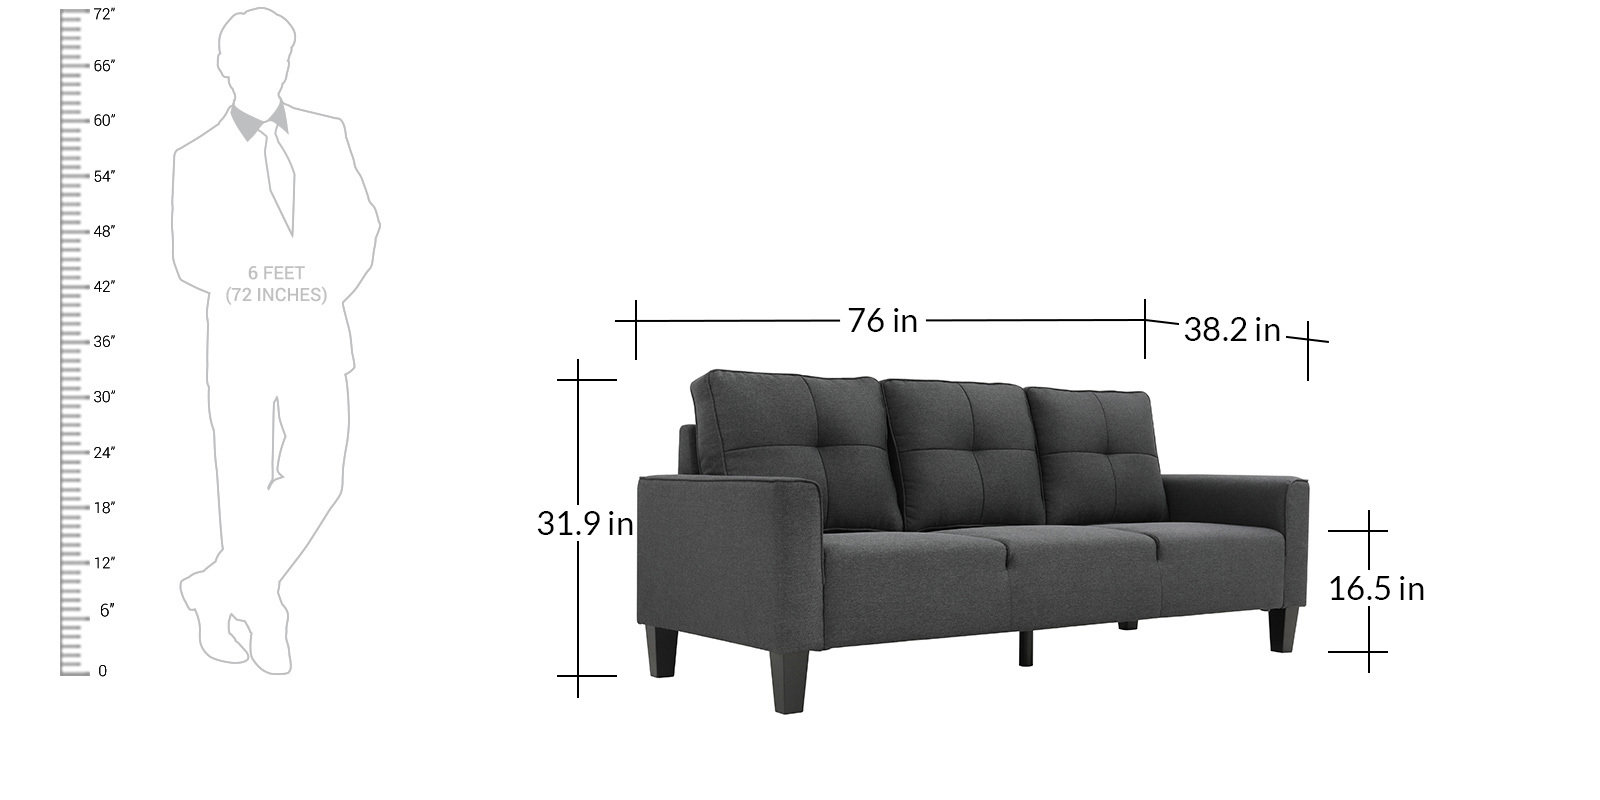Alice Three Seater Sofa in Grey Colour by Zofa: (622, 360, 1322, 716)
